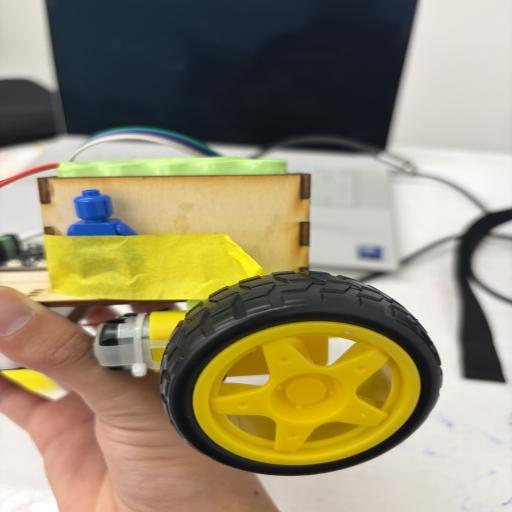Blue-Lego: (67, 189, 137, 236)
